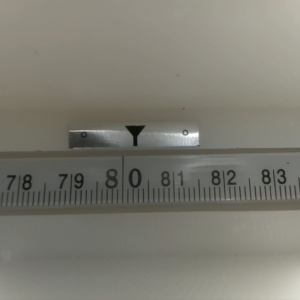0: (127, 168, 142, 188)
1: (177, 170, 183, 186)
2: (226, 170, 236, 186)
3: (276, 168, 286, 185)
7: (5, 174, 16, 190), (57, 174, 67, 189)
8: (105, 169, 119, 189), (260, 168, 271, 185), (21, 174, 32, 190), (160, 170, 170, 187), (210, 170, 220, 186)
9: (73, 173, 83, 189)
finger: (123, 126, 145, 146)
